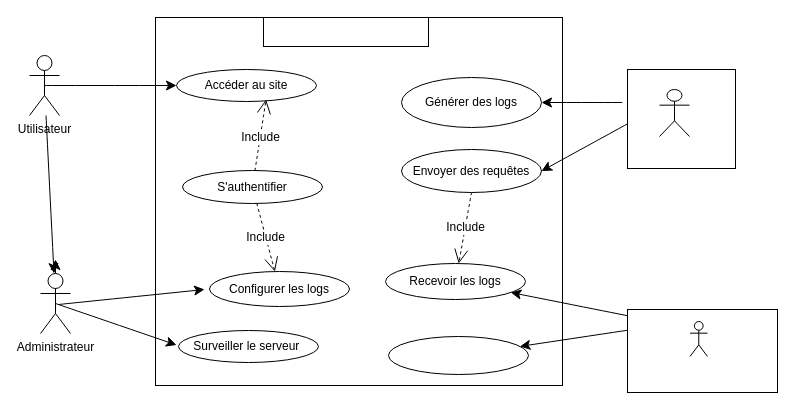
Some shapes in this 795 by 410 pixel diagram are drawn without their labels. The shapes that lost their labels are listed below. From the top down, each one's box as (x1, y1, x2, y2) in pixels, then its label:
(262, 16, 428, 46): Serveur Web qui génère les logs
(658, 88, 690, 136): Application
(388, 336, 528, 374): Lire/stocker les logs
(689, 320, 708, 356): Serveur de collecte de logs
